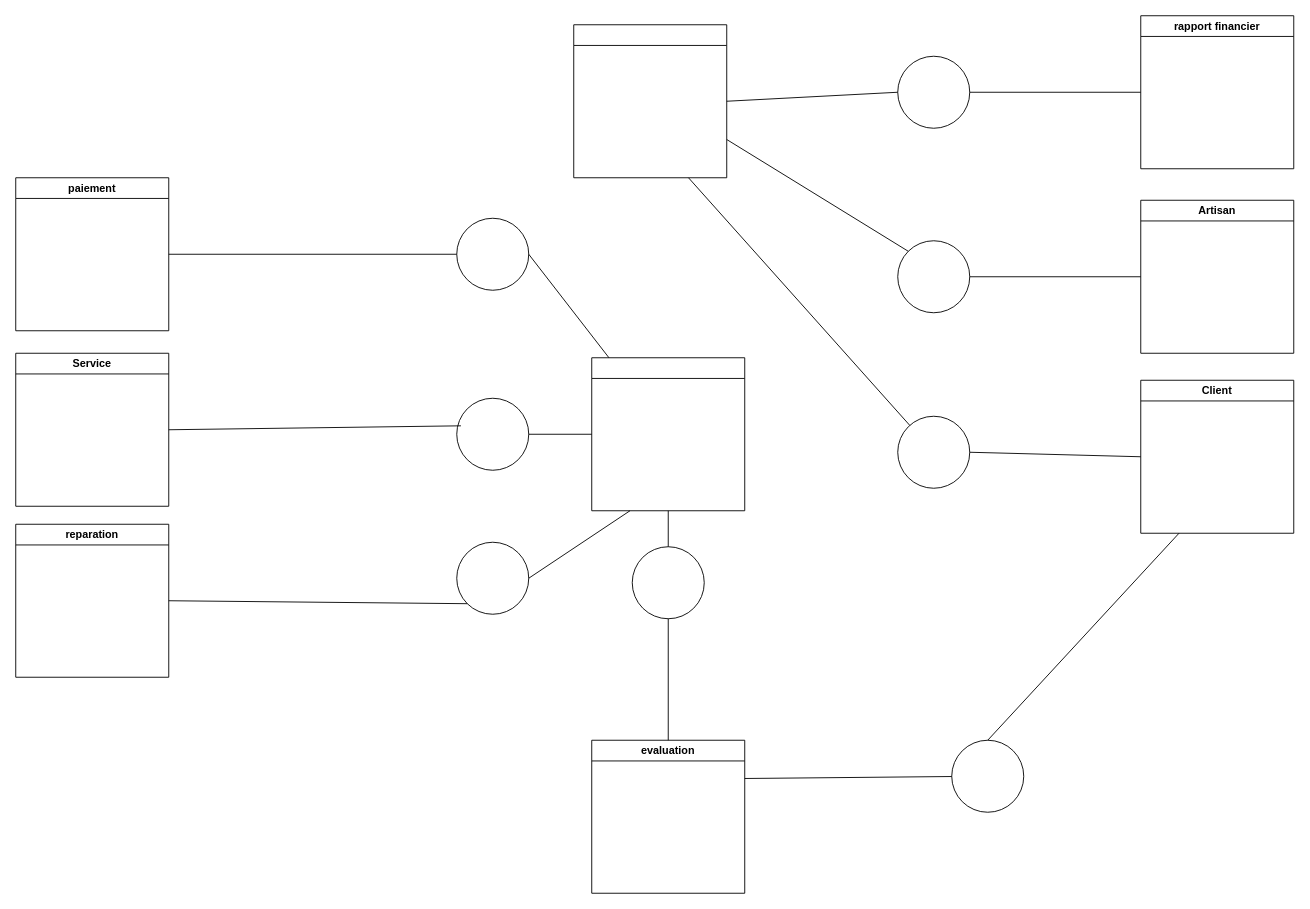
The diagram is 1310 pixels wide and 909 high, and some of its shapes have lost their labels. The centre of each missing label's shape, as x and y in pixels:
Admin: the point at 650,101
demande: the point at 668,434
